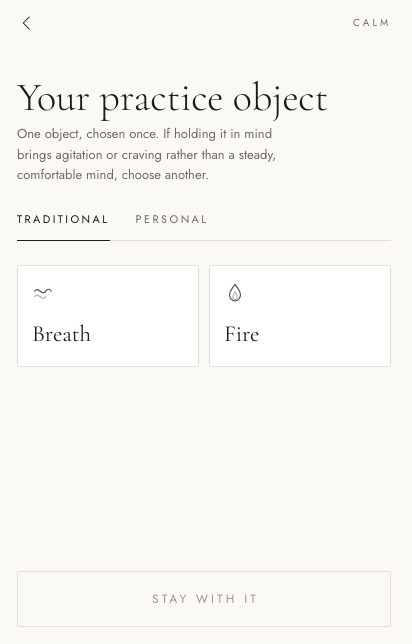
it: ObjectScreen › disables Stay until an object is chosen, then labels it after one is picked
Expected: the heading "Your practice object" is shown, [17,73,328,121]
Expected: the button "Stay with it" is disabled, [17,571,391,627]
Click the radio button labelled "Fire" at (300, 316), box [209,265,391,367]
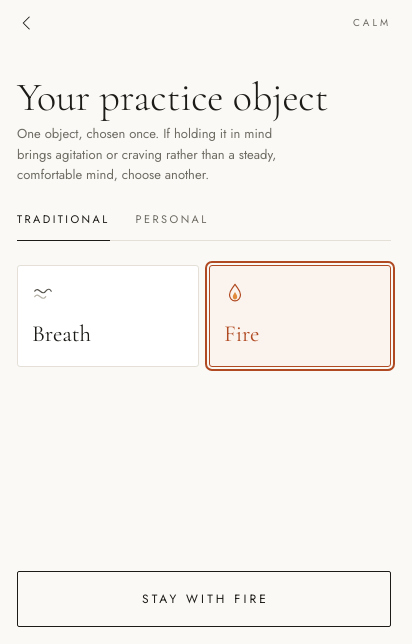
Expected: the button "Stay with fire" is enabled, [17,571,391,627]
